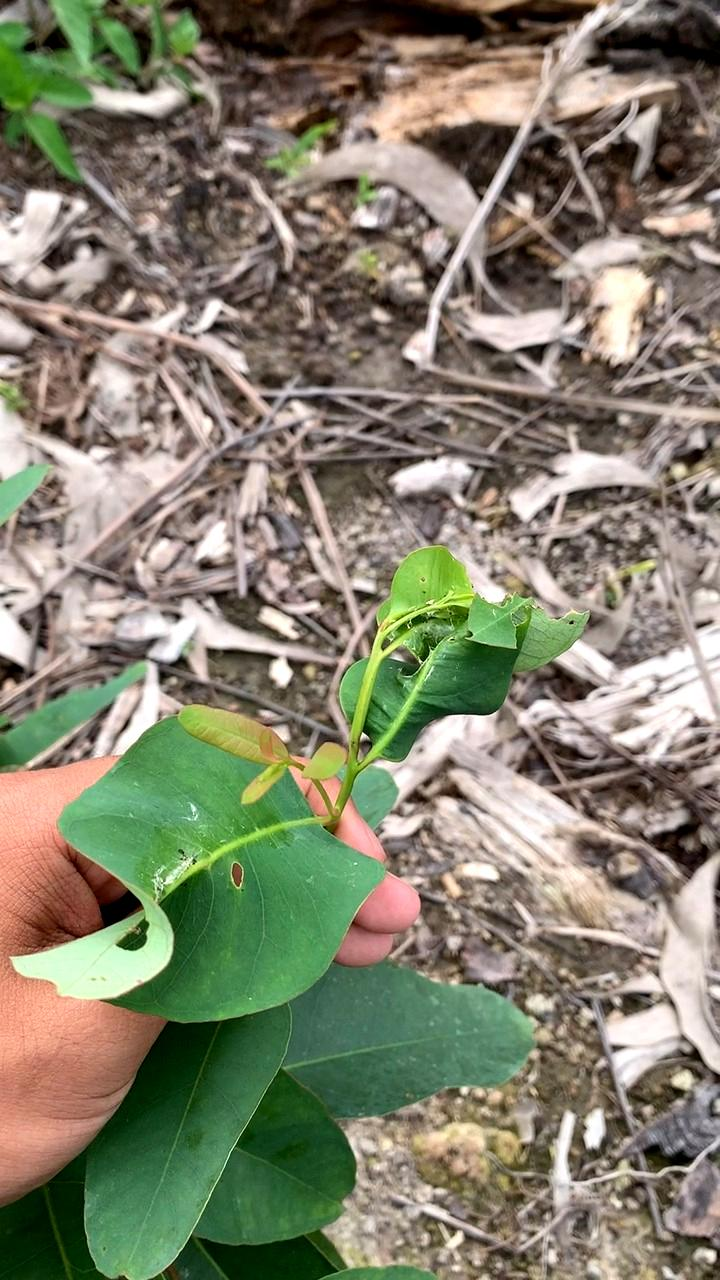Leaf Roller - Leaf: (315, 518, 603, 786)
